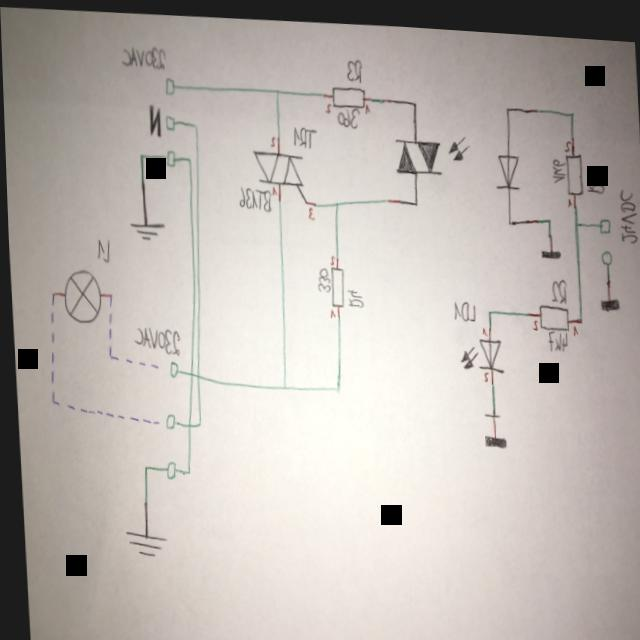crossover: (182, 416, 189, 426), (184, 366, 191, 374), (192, 368, 197, 375)
diode: (454, 327, 502, 366)
ground: (117, 523, 164, 557), (125, 213, 164, 240), (478, 423, 505, 443), (597, 285, 618, 303), (537, 236, 559, 252)
junction: (330, 379, 338, 389), (504, 209, 511, 219), (570, 210, 577, 218), (192, 416, 199, 424), (47, 287, 54, 295), (272, 81, 279, 89), (278, 378, 285, 386), (543, 207, 550, 215), (184, 151, 190, 160), (301, 192, 307, 201), (569, 100, 575, 109), (575, 307, 581, 316), (138, 460, 144, 468), (181, 464, 187, 472), (103, 349, 109, 357), (105, 288, 111, 296), (137, 147, 143, 155), (503, 96, 509, 104), (483, 299, 489, 307), (46, 395, 52, 402), (191, 118, 197, 125), (331, 194, 337, 201), (411, 193, 417, 200), (410, 93, 416, 100)
resistor: (534, 293, 568, 322), (329, 78, 365, 103), (563, 141, 583, 186), (327, 259, 344, 302)
terminal: (162, 72, 175, 93), (596, 206, 610, 225), (598, 239, 611, 256), (163, 108, 174, 128)
text: (129, 320, 179, 354), (116, 38, 166, 69), (615, 175, 637, 236), (235, 178, 271, 208), (291, 119, 317, 144), (334, 98, 359, 124), (450, 291, 474, 316), (146, 98, 162, 135), (543, 320, 566, 345), (343, 50, 363, 78), (547, 267, 566, 296), (583, 163, 604, 185), (92, 233, 109, 260), (550, 147, 566, 175), (313, 260, 328, 288), (343, 281, 362, 302), (561, 129, 570, 144), (528, 309, 537, 323), (305, 200, 313, 215), (322, 96, 331, 108), (267, 129, 275, 142), (326, 301, 333, 314), (569, 313, 575, 328), (363, 96, 370, 108), (477, 318, 485, 328), (270, 179, 276, 192), (327, 247, 333, 260), (564, 186, 570, 198), (480, 362, 486, 374)
